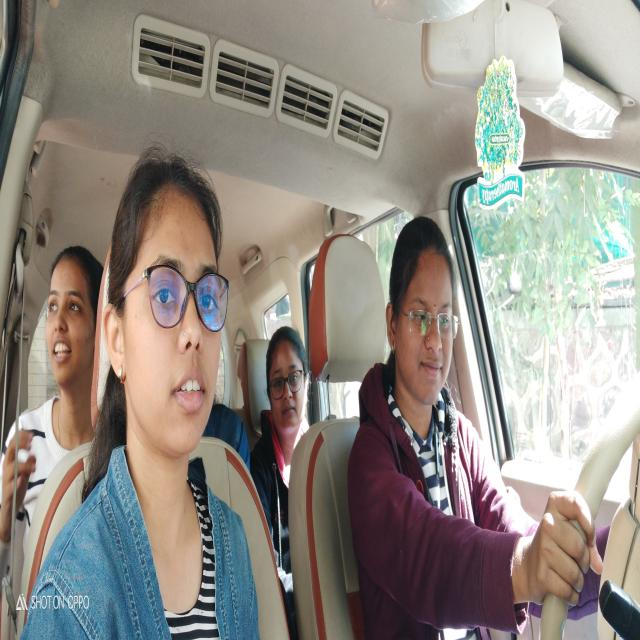person: (104, 147, 225, 469), (386, 215, 463, 410), (46, 248, 102, 404), (264, 316, 313, 450)
